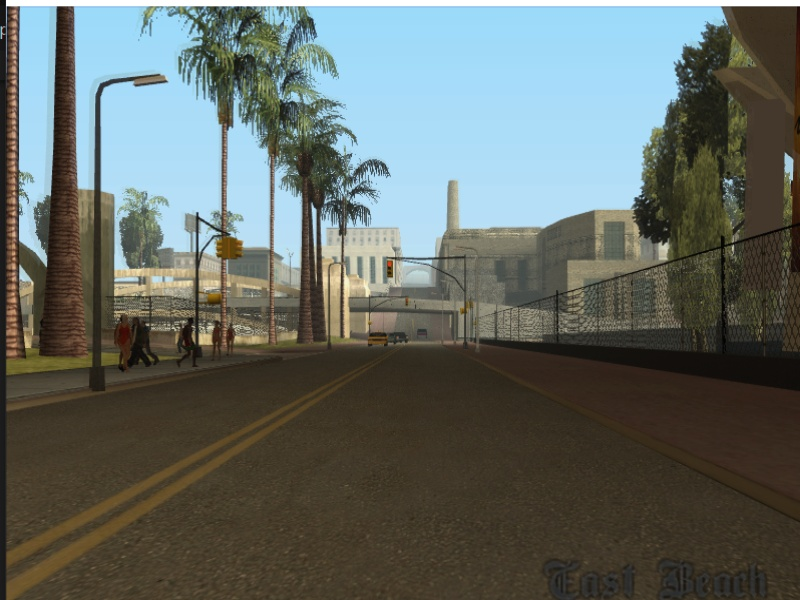person: (111, 313, 131, 369), (179, 316, 199, 368), (133, 313, 151, 370), (224, 322, 238, 354), (212, 320, 222, 363)
pole: (459, 255, 469, 349), (472, 260, 481, 353)
tree: (40, 6, 92, 361), (1, 8, 26, 360), (294, 173, 316, 347), (217, 122, 235, 319), (266, 144, 281, 349)
vehicle: (369, 332, 388, 351), (391, 331, 407, 345)
